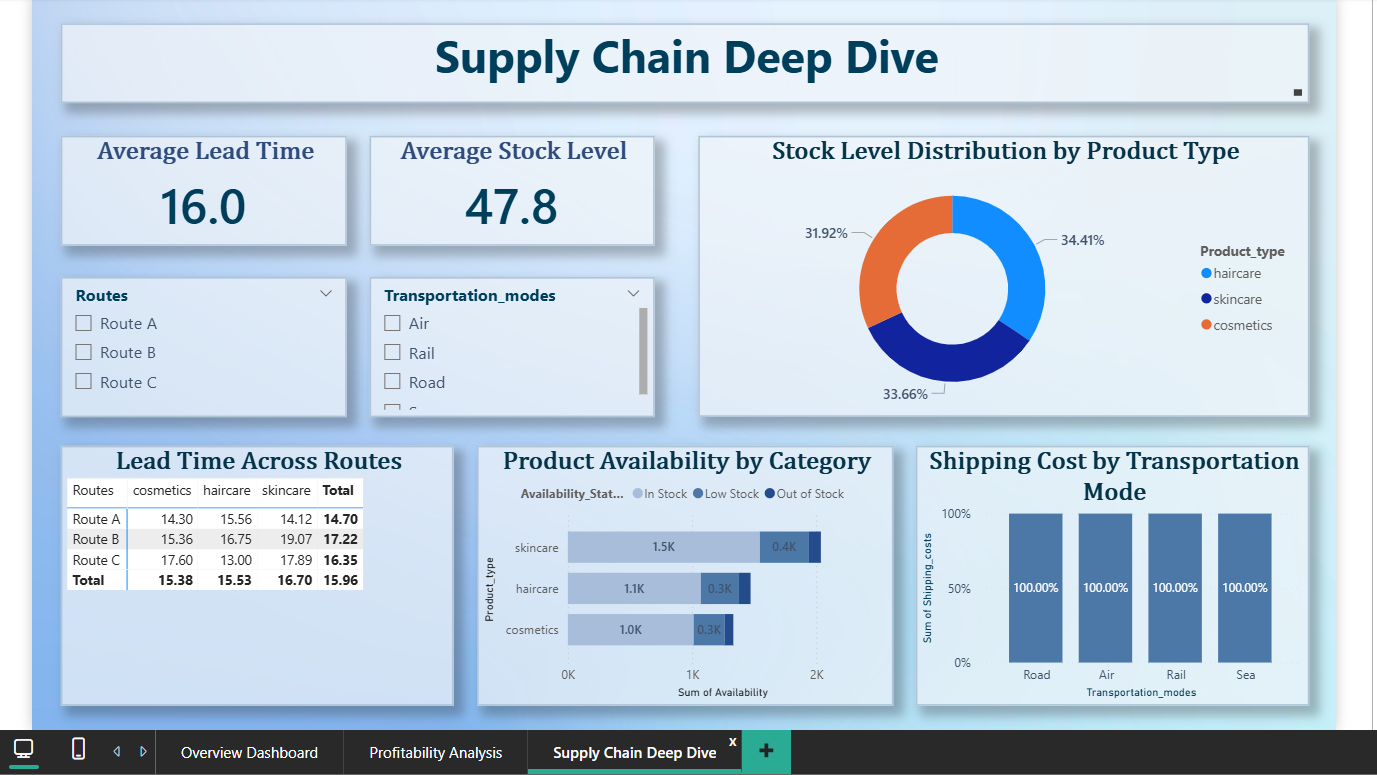

This screenshot's page, from the dashboard's own definition file:
{"tool":"powerbi","page":{"name":"Supply Chain Deep Dive","canvas":[1280,720],"ordinal":2},"visuals":[{"type":"card","title":"Average Stock Level","fields":{"Values":["Avg(project_supply_chain_data supply_chain_table.Stock_levels)"]},"box":[331.3,136.2,279.8,108],"z":0},{"type":"card","title":"Average Lead Time","fields":{"Values":["Avg(project_supply_chain_data supply_chain_table.Lead_times)"]},"box":[28.2,136.2,281,108],"z":1000},{"type":"hundredPercentStackedColumnChart","title":"Shipping Cost by Transportation Mode","fields":{"Category":["project_supply_chain_data supply_chain_table.Transportation_modes"],"Y":["Sum(project_supply_chain_data supply_chain_table.Shipping_costs)"]},"box":[867.5,440.5,386.5,255.2],"z":2000},{"type":"pivotTable","title":"Lead Time Across Routes","fields":{"Rows":["project_supply_chain_data supply_chain_table.Routes"],"Columns":["project_supply_chain_data supply_chain_table.Product_type","project_supply_chain_data supply_chain_table.Availability_Status"],"Values":["Avg(project_supply_chain_data supply_chain_table.Lead_times)"]},"box":[28.2,440.5,385.3,255.2],"z":3000},{"type":"barChart","title":"Product Availability by Category","fields":{"Category":["project_supply_chain_data supply_chain_table.Product_type"],"Series":["project_supply_chain_data supply_chain_table.Availability_Status"],"Y":["Sum(project_supply_chain_data supply_chain_table.Availability)"]},"box":[436.8,440.5,408.6,255.2],"z":4000},{"type":"donutChart","title":"Stock Level Distribution by Product Type","fields":{"Category":["project_supply_chain_data supply_chain_table.Product_type"],"Y":["Sum(project_supply_chain_data supply_chain_table.Stock_levels)"]},"box":[654,136.2,600,276.1],"z":5000},{"type":"slicer","fields":{"Values":["project_supply_chain_data supply_chain_table.Transportation_modes"]},"box":[331.3,274.8,279.8,137.4],"z":6000},{"type":"slicer","fields":{"Values":["project_supply_chain_data supply_chain_table.Routes"]},"box":[28.2,274.8,281,137.4],"z":7000},{"type":"textbox","title":"Supply Chain Deep Dive","box":[28.2,25.8,1225.8,78.5],"z":8000}]}

Visuals, with their boxes on the page's 1280x720 design canvas (x1, y1, x2, y2). These are canvas units, not pixel positions in the 1377x775 screenshot, which may show the page scaled, cropped or inside an application window:
"Average Stock Level" card: 331, 136, 611, 244
"Average Lead Time" card: 28, 136, 309, 244
"Shipping Cost by Transportation Mode" hundredPercentStackedColumnChart: 868, 440, 1254, 696
"Lead Time Across Routes" pivotTable: 28, 440, 414, 696
"Product Availability by Category" barChart: 437, 440, 845, 696
"Stock Level Distribution by Product Type" donutChart: 654, 136, 1254, 412
slicer - project_supply_chain_data supply_chain_table.Transportation_modes: 331, 275, 611, 412
slicer - project_supply_chain_data supply_chain_table.Routes: 28, 275, 309, 412
"Supply Chain Deep Dive" textbox: 28, 26, 1254, 104
